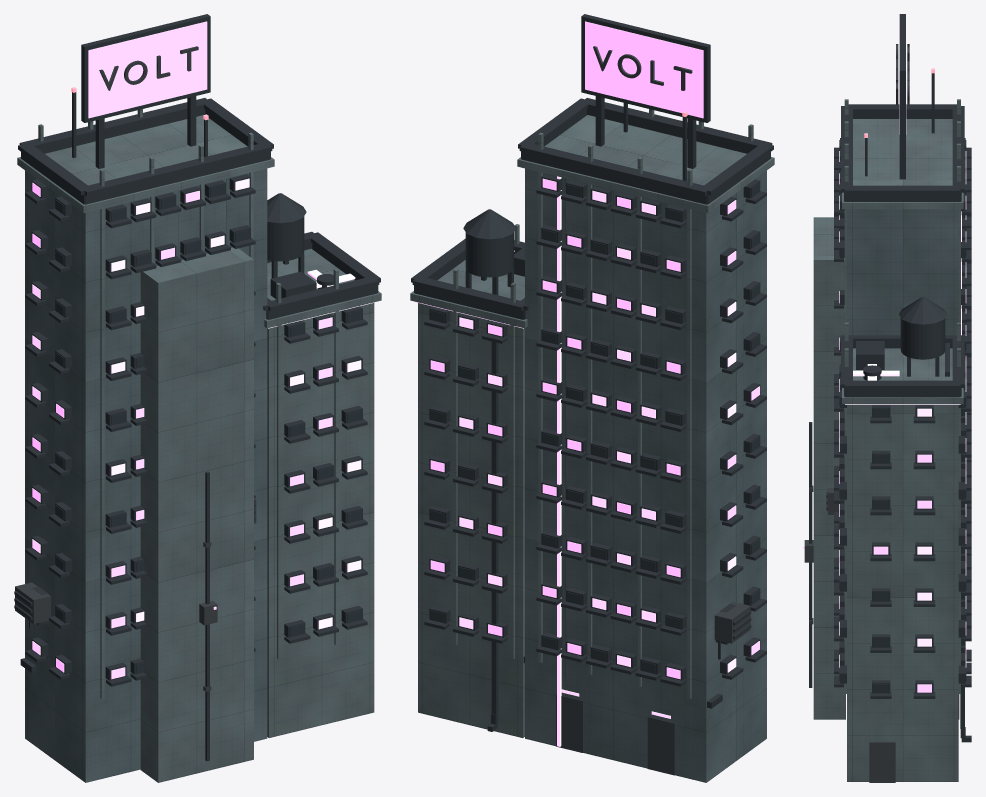
Rendered from synthwave-mega-slab.glb.
3 views of the same model, side by side, from view 1: azimuth 30°, elevation 25°; view 2: azimuth 150°, elevation 25°; view 3: azimuth 270°, elevation 25° (orthographic). The views are drawn at different scales.
Visible parts, largest first — view 1: MegaSlab_Body2, SlabHi, MegaSlab_Frame, AdBoard, MegaSlab_PaneOff, MegaSlab_Door, MegaSlab_PaneADim, MegaSlab_PaneBDim, RK_WaterTank, RK_WaterCap, RK_SlabAC, MegaSlab_PaneB (+1 smaller); view 2: SlabHi, MegaSlab_Frame, MegaSlab_Body2, AdBoard, MegaSlab_PaneOff, MegaSlab_Door, MegaSlab_PaneBDim, MegaSlab_SlabBand, MegaSlab_PaneADim, RK_WaterTank, MegaSlab_PaneAHot, MegaSlab_PaneB (+1 smaller); view 3: MegaSlab_Body2, MegaSlab_Frame, SlabHi, MegaSlab_Door, RK_WaterTank, MegaSlab_PaneOff, RK_WaterCap, RK_SlabAC, MegaSlab_PaneBDim, MegaSlab_PaneADim, MegaSlab_PaneAHot.
Boxes of the visible parts, x1,y1,x2,y2 form: MegaSlab_Body2: (17, 109, 381, 782); SlabHi: (25, 168, 267, 782); MegaSlab_Frame: (14, 14, 380, 761); AdBoard: (88, 21, 207, 118); MegaSlab_PaneOff: (56, 184, 361, 673); MegaSlab_Door: (15, 46, 256, 691); MegaSlab_PaneADim: (32, 178, 361, 629); MegaSlab_PaneBDim: (32, 233, 332, 672); RK_WaterTank: (267, 216, 304, 261); RK_WaterCap: (267, 193, 306, 223); RK_SlabAC: (270, 271, 316, 298); MegaSlab_PaneB: (32, 182, 332, 679); SlabHi: (525, 168, 766, 782); MegaSlab_Frame: (411, 14, 773, 731); MegaSlab_Body2: (410, 109, 774, 778); AdBoard: (585, 21, 703, 118); MegaSlab_PaneOff: (430, 182, 759, 673); MegaSlab_Door: (556, 46, 750, 775); MegaSlab_PaneBDim: (488, 178, 759, 679); MegaSlab_SlabBand: (415, 176, 561, 746); MegaSlab_PaneADim: (488, 203, 736, 667); RK_WaterTank: (465, 232, 513, 277); MegaSlab_PaneAHot: (459, 190, 736, 672); MegaSlab_PaneB: (430, 200, 736, 654); MegaSlab_Body2: (813, 99, 963, 781); MegaSlab_Frame: (809, 14, 971, 742); SlabHi: (847, 209, 958, 335); MegaSlab_Door: (804, 44, 959, 782); RK_WaterTank: (900, 318, 945, 359); MegaSlab_PaneOff: (839, 140, 966, 692); RK_WaterCap: (899, 297, 947, 324); RK_SlabAC: (856, 341, 884, 369); MegaSlab_PaneBDim: (839, 162, 966, 692); MegaSlab_PaneADim: (839, 151, 966, 667); MegaSlab_PaneAHot: (839, 173, 966, 667).
Bounding box in the file's own units: 1.68 × 3.54 × 0.831.
16 materials, 2 textured.
